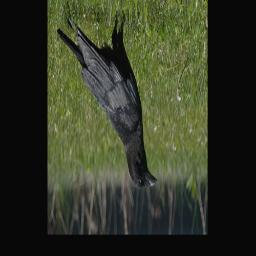Crow: (56, 7, 158, 190)
